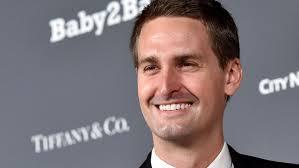Persons: (123, 2, 247, 141)
